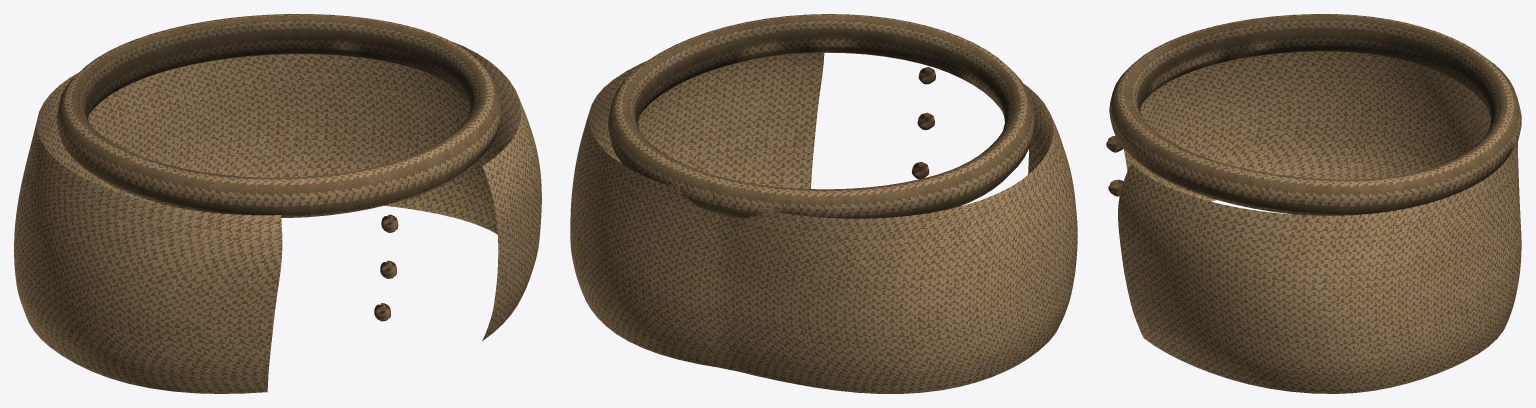
The model's file is cardigan.glb.
The picture shows the model from 3 angles, left to right: view 1: azimuth 30°, elevation 25°; view 2: azimuth 150°, elevation 25°; view 3: azimuth 270°, elevation 25°; orthographic projection. The views are drawn at different scales.
Visible parts, largest first — view 1: cardigan_coat, cardigan_collar; view 2: cardigan_coat, cardigan_collar; view 3: cardigan_coat, cardigan_collar.
Part boxes in pixels (x1,y1,x2,y2): cardigan_coat: [14, 41, 541, 393]; cardigan_collar: [56, 14, 501, 217]; cardigan_coat: [570, 53, 1077, 393]; cardigan_collar: [608, 14, 1034, 218]; cardigan_coat: [1118, 51, 1521, 393]; cardigan_collar: [1109, 14, 1521, 215].
Bounding box in the file's own units: 32.63 × 13.88 × 26.5.
1 material, 1 textured.
